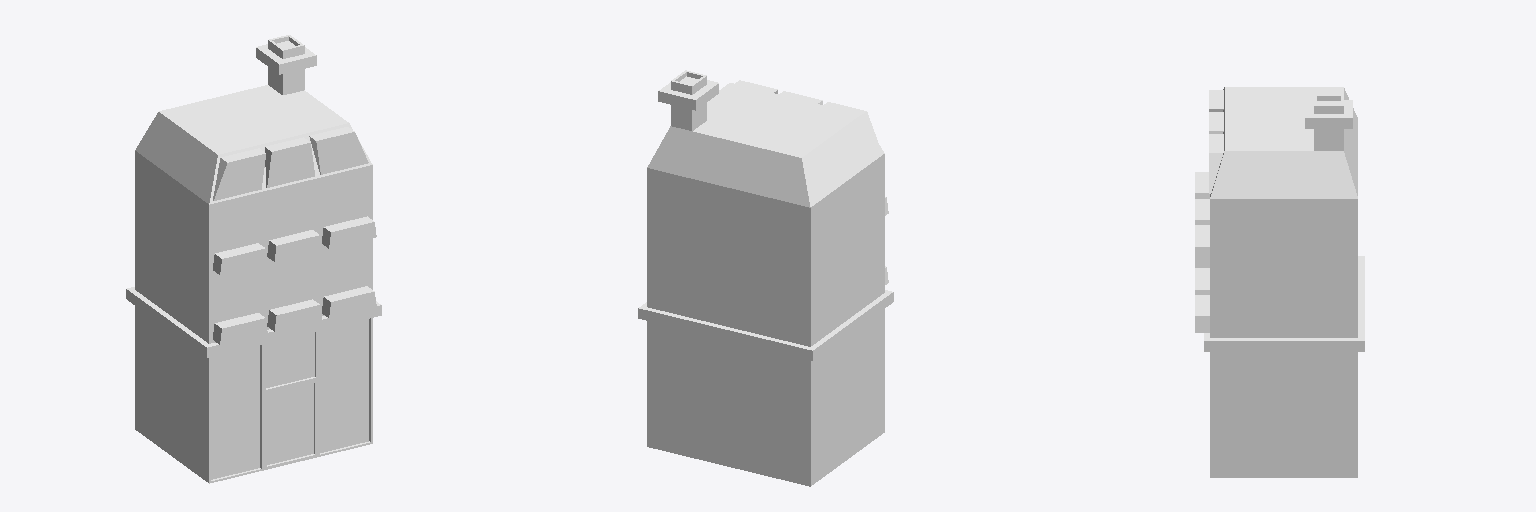
3 views of the same model, side by side, from view 1: azimuth 30°, elevation 25°; view 2: azimuth 150°, elevation 25°; view 3: azimuth 270°, elevation 25° (orthographic).
Visible parts, largest first — view 1: Cube3_copy7; view 2: Cube3_copy7; view 3: Cube3_copy7.
Boxes of the visible parts, <box> form: Cube3_copy7: <box>126,35,381,483</box>; Cube3_copy7: <box>638,70,893,486</box>; Cube3_copy7: <box>1195,87,1364,477</box>.
Bounding box in the file's own units: 372 × 742 × 313.